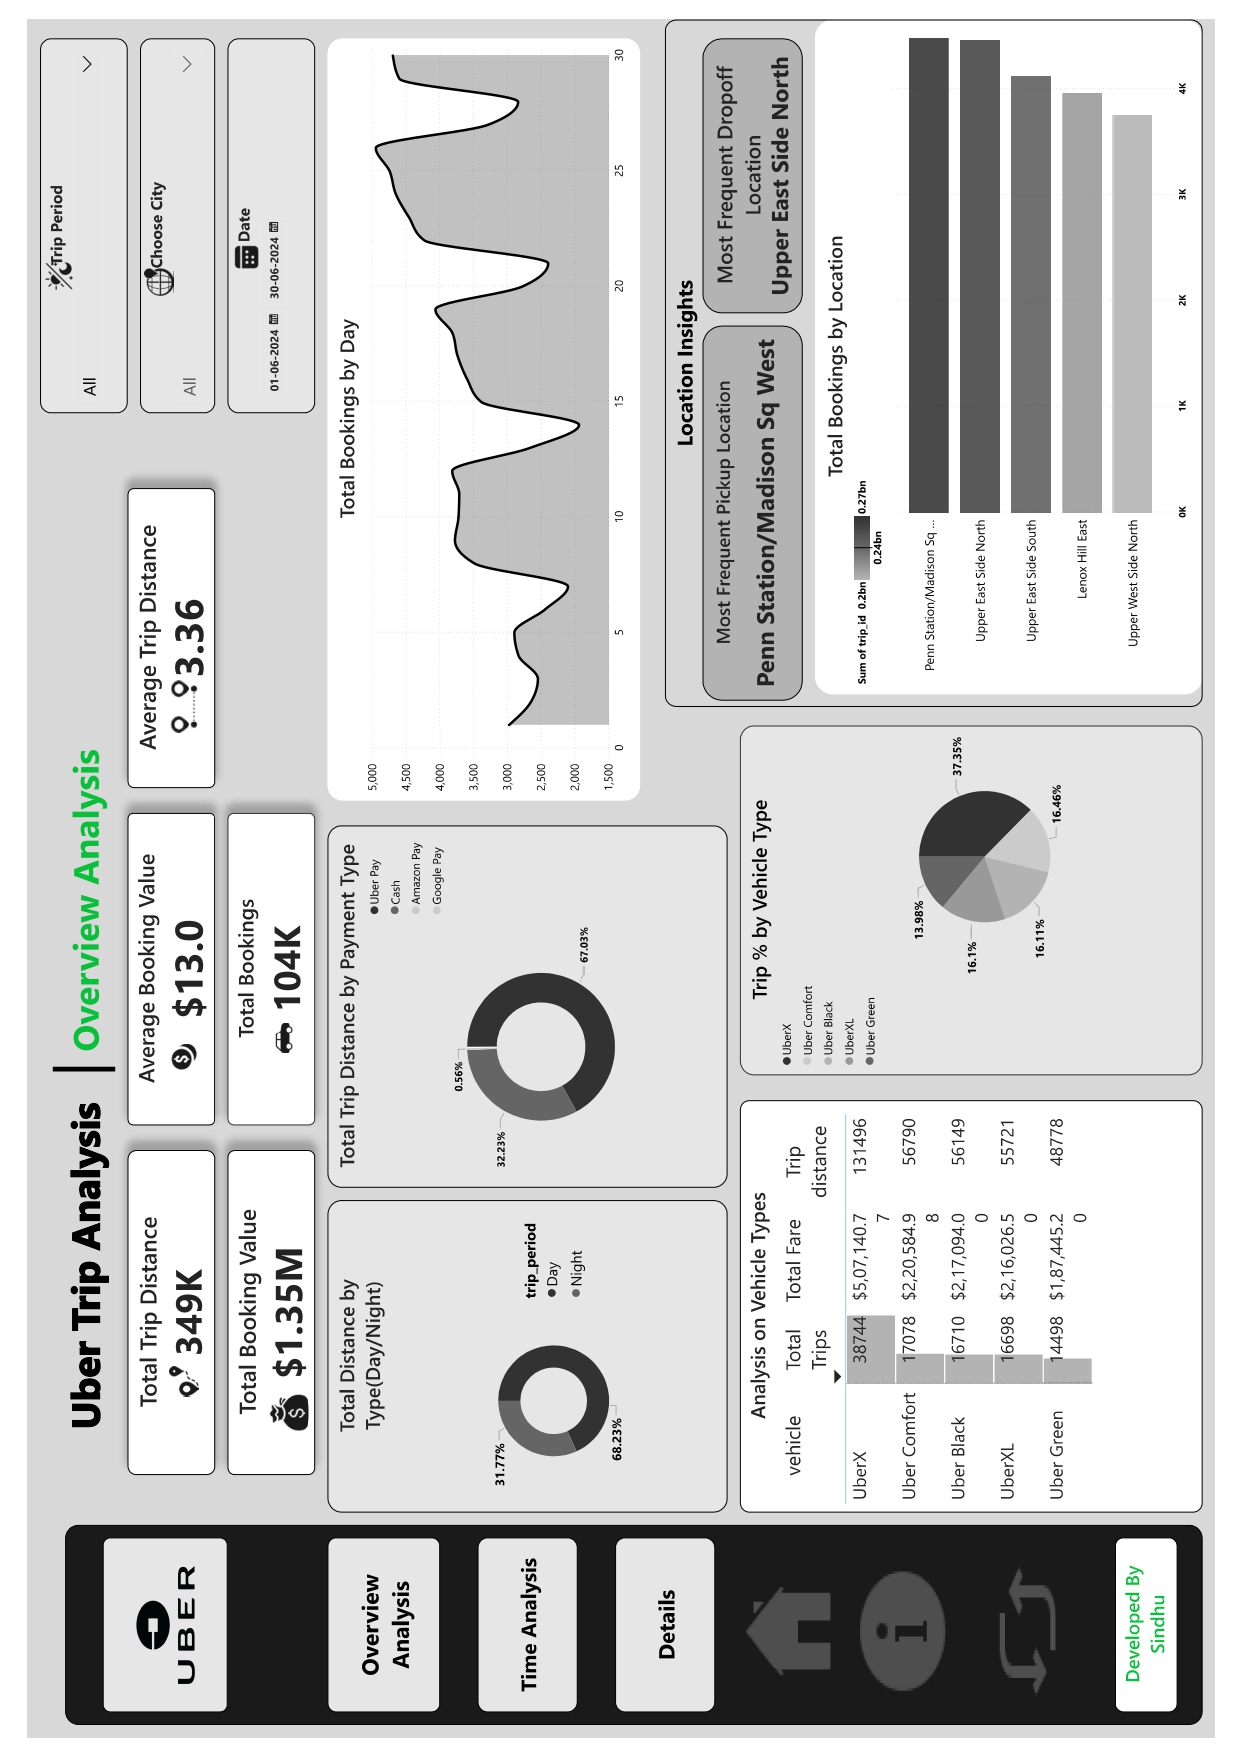

What the dashboard file says about the page in this screenshot:
{"tool":"powerbi","page":{"name":"Overview Analysis","canvas":[2200,1520],"ordinal":0},"visuals":[{"type":"shape","box":[16,48,256,1456],"z":0,"group":"g1"},{"type":"donutChart","title":"Total Trip Distance by Payment Type","fields":{"Category":["Trip Details.payment_type"],"Y":["Trip Details.Total Trips"]},"box":[704,384,464,512],"z":0},{"type":"barChart","title":"Total Bookings by Location","fields":{"Category":["Location Table.Location"],"Y":["CountNonNull(Trip Details.trip_id)"]},"box":[1336,1008,864,496],"z":0,"group":"g2"},{"type":"image","box":[32,96,224,160],"z":1000,"group":"g1"},{"type":"donutChart","title":"Total Distance by Type(Day/Night)","fields":{"Category":["Trip Details.trip_period"],"Y":["Sum(Trip Details.trip_distance)"]},"box":[288,384,400,512],"z":1000},{"type":"card","title":"Most Frequent Pickup Location","fields":{"Values":["Trip Details.Most Frequent Pickup Zone"]},"box":[1328,864,480,128],"z":1000,"group":"g2"},{"type":"actionButton","box":[32,384,224,144],"z":2000,"group":"g1"},{"type":"areaChart","title":"Total Bookings by Day","fields":{"Category":["Trip Details.pickup_time.Variation.Date Hierarchy.Day"],"Y":["CountNonNull(Trip Details.trip_id)"]},"box":[1200,384,976,400],"z":2000},{"type":"card","title":"Most Frequent Dropoff Location","fields":{"Values":["Trip Details.Most Frequent Dropoff Zone"]},"box":[1824,864,352,128],"z":2000,"group":"g2"},{"type":"actionButton","title":"Time Analysis","box":[32,576,224,128],"z":3000,"group":"g1"},{"type":"shape","box":[1320,816,880,688],"z":3000,"group":"g2"},{"type":"tableEx","title":"Analysis on Vehicle Types","fields":{"Values":["Trip Details.vehicle","Trip Details.Total Trips","Trip Details.Total Fare","Sum(Trip Details.trip_distance)"]},"box":[288,912,528,592],"z":3000},{"type":"card","title":"Average Trip Distance","fields":{"Values":["Trip Details.Average distance"]},"box":[1216,128,384,112],"z":4000},{"type":"actionButton","title":"Details","box":[32,752,224,128],"z":4000,"group":"g1"},{"type":"card","title":"Average Booking Value","fields":{"Values":["Trip Details.Average Fare"]},"box":[784,128,400,112],"z":5000},{"type":"textbox","title":"Developed By Sindhu","box":[32,1392,224,80],"z":5000,"group":"g1"},{"type":"shape","box":[736,32,240,80],"z":6000,"group":"g1"},{"type":"card","title":"Total Bookings","fields":{"Values":["Trip Details.Total Trips"]},"box":[784,256,400,112],"z":6000},{"type":"card","title":"Total Booking Value","fields":{"Values":["Trip Details.Total Fare"]},"box":[336,256,416,112],"z":7000},{"type":"image","box":[32,1232,208,96],"z":7000,"group":"g1"},{"type":"card","title":"Total Trip Distance","fields":{"Values":["Sum(Trip Details.trip_distance)"]},"box":[336,128,416,112],"z":8000},{"type":"image","box":[48,1056,176,128],"z":8000,"group":"g1"},{"type":"shape","box":[384,0,672,144],"z":9000},{"type":"shape","box":[832,0,480,144],"z":10000},{"type":"slicer","title":"Trip Period","fields":{"Values":["Trip Details.trip_period"]},"box":[1696,16,480,112],"z":11000},{"type":"slicer","title":"Choose City","fields":{"Values":["Location Table.City"]},"box":[1696,144,480,96],"z":12000},{"type":"slicer","title":"Date","fields":{"Values":["Trip Details.pickup_time"]},"box":[1696,256,480,112],"z":13000},{"type":"pieChart","title":" Trip % by Vehicle Type","fields":{"Category":["Trip Details.vehicle"],"Y":["CountNonNull(Trip Details.trip_id)"]},"box":[848,912,448,592],"z":14000},{"type":"image","box":[384,176,144,48],"z":15000},{"type":"image","box":[832,304,128,48],"z":16000},{"type":"image","box":[832,176,80,48],"z":17000},{"type":"image","box":[1264,160,112,80],"z":18000},{"type":"image","box":[368,304,96,64],"z":19000},{"type":"image","box":[1808,16,128,48],"z":20000},{"type":"image","box":[1824,144,80,48],"z":21000},{"type":"image","box":[1856,256,80,48],"z":22000},{"type":"image","box":[32,928,208,96],"z":23000},{"type":"group","id":"g1","title":"Group 1","box":[16,32,960,1472],"z":24000},{"type":"image","box":[0,912,272,128],"z":25000},{"type":"group","id":"g2","title":"Group 2","box":[1320,816,880,688],"z":26000}]}

Visuals, with their boxes on the page's 2200x1520 design canvas (x1, y1, x2, y2). These are canvas units, not pixel positions in the 1241x1755 screenshot, which may show the page scaled, cropped or inside an application window:
shape: x1=16 y1=48 x2=272 y2=1504
"Total Trip Distance by Payment Type" donutChart: x1=704 y1=384 x2=1168 y2=896
"Total Bookings by Location" barChart: x1=1336 y1=1008 x2=2200 y2=1504
image: x1=32 y1=96 x2=256 y2=256
"Total Distance by Type(Day/Night)" donutChart: x1=288 y1=384 x2=688 y2=896
"Most Frequent Pickup Location" card: x1=1328 y1=864 x2=1808 y2=992
actionButton: x1=32 y1=384 x2=256 y2=528
"Total Bookings by Day" areaChart: x1=1200 y1=384 x2=2176 y2=784
"Most Frequent Dropoff Location" card: x1=1824 y1=864 x2=2176 y2=992
"Time Analysis" actionButton: x1=32 y1=576 x2=256 y2=704
shape: x1=1320 y1=816 x2=2200 y2=1504
"Analysis on Vehicle Types" tableEx: x1=288 y1=912 x2=816 y2=1504
"Average Trip Distance" card: x1=1216 y1=128 x2=1600 y2=240
"Details" actionButton: x1=32 y1=752 x2=256 y2=880
"Average Booking Value" card: x1=784 y1=128 x2=1184 y2=240
"Developed By Sindhu" textbox: x1=32 y1=1392 x2=256 y2=1472
shape: x1=736 y1=32 x2=976 y2=112
"Total Bookings" card: x1=784 y1=256 x2=1184 y2=368
"Total Booking Value" card: x1=336 y1=256 x2=752 y2=368
image: x1=32 y1=1232 x2=240 y2=1328
"Total Trip Distance" card: x1=336 y1=128 x2=752 y2=240
image: x1=48 y1=1056 x2=224 y2=1184
shape: x1=384 y1=0 x2=1056 y2=144
shape: x1=832 y1=0 x2=1312 y2=144
"Trip Period" slicer: x1=1696 y1=16 x2=2176 y2=128
"Choose City" slicer: x1=1696 y1=144 x2=2176 y2=240
"Date" slicer: x1=1696 y1=256 x2=2176 y2=368
" Trip % by Vehicle Type" pieChart: x1=848 y1=912 x2=1296 y2=1504
image: x1=384 y1=176 x2=528 y2=224
image: x1=832 y1=304 x2=960 y2=352
image: x1=832 y1=176 x2=912 y2=224
image: x1=1264 y1=160 x2=1376 y2=240
image: x1=368 y1=304 x2=464 y2=368
image: x1=1808 y1=16 x2=1936 y2=64
image: x1=1824 y1=144 x2=1904 y2=192
image: x1=1856 y1=256 x2=1936 y2=304
image: x1=32 y1=928 x2=240 y2=1024
"Group 1" group: x1=16 y1=32 x2=976 y2=1504
image: x1=0 y1=912 x2=272 y2=1040
"Group 2" group: x1=1320 y1=816 x2=2200 y2=1504
